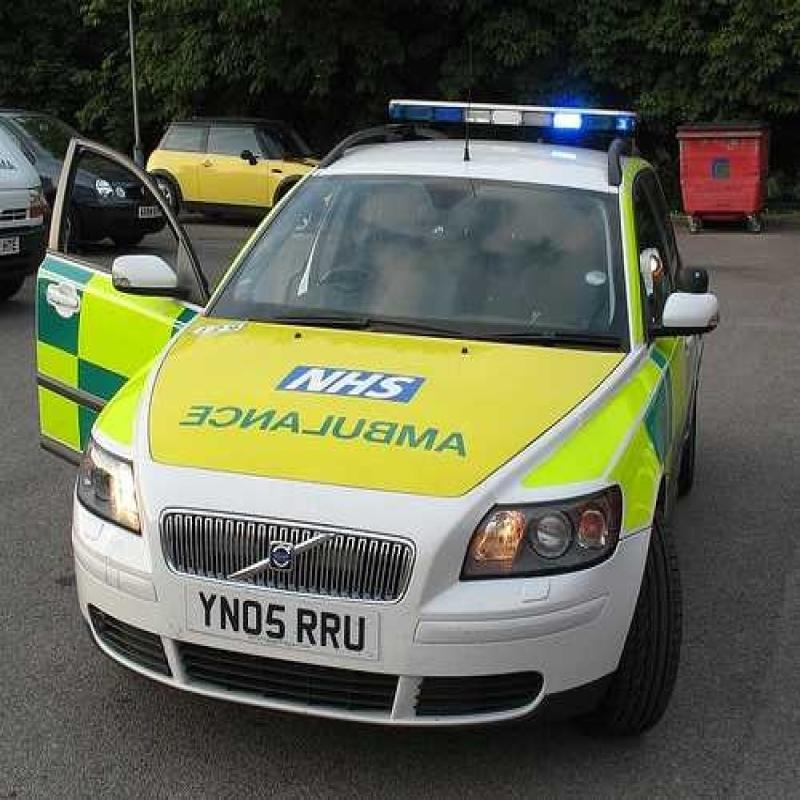AmbulanceSiren: (362, 53, 640, 158)
